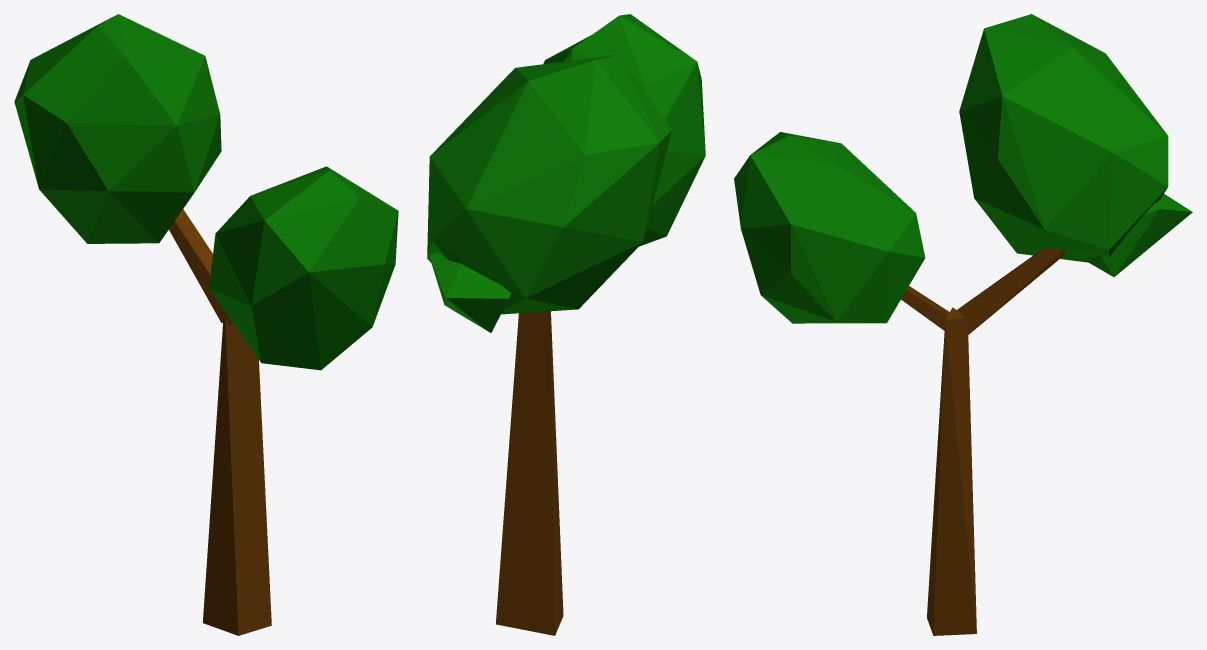
File: environmentmodel2.fbx
3 renders of one model, left to right at view 1: azimuth 30°, elevation 25°; view 2: azimuth 150°, elevation 25°; view 3: azimuth 270°, elevation 25°, orthographic. The views are drawn at different scales.
Parts seen in each view (by area): view 1: Icosphere.002, Icosphere.001, Cylinder.001, Cylinder.002; view 2: Icosphere.002, Cylinder.001, Icosphere.001, Icosphere.000; view 3: Icosphere.002, Icosphere.001, Cylinder.001, Icosphere.000, Cylinder.002, Cylinder.000.
Boxes of the visible parts, x1=… form: Icosphere.002: x1=14, y1=14, x2=221, y2=243; Icosphere.001: x1=209, y1=166, x2=398, y2=370; Cylinder.001: x1=202, y1=317, x2=271, y2=635; Cylinder.002: x1=169, y1=209, x2=223, y2=322; Icosphere.002: x1=427, y1=55, x2=671, y2=314; Cylinder.001: x1=496, y1=311, x2=563, y2=635; Icosphere.001: x1=543, y1=14, x2=705, y2=246; Icosphere.000: x1=429, y1=251, x2=511, y2=332; Icosphere.002: x1=959, y1=14, x2=1168, y2=262; Icosphere.001: x1=734, y1=132, x2=925, y2=323; Cylinder.001: x1=927, y1=307, x2=976, y2=635; Icosphere.000: x1=1085, y1=194, x2=1192, y2=276; Cylinder.002: x1=957, y1=248, x2=1066, y2=334; Cylinder.000: x1=901, y1=286, x2=949, y2=330.
Size of the model in its own units: 2.33 by 5.43 by 4.
